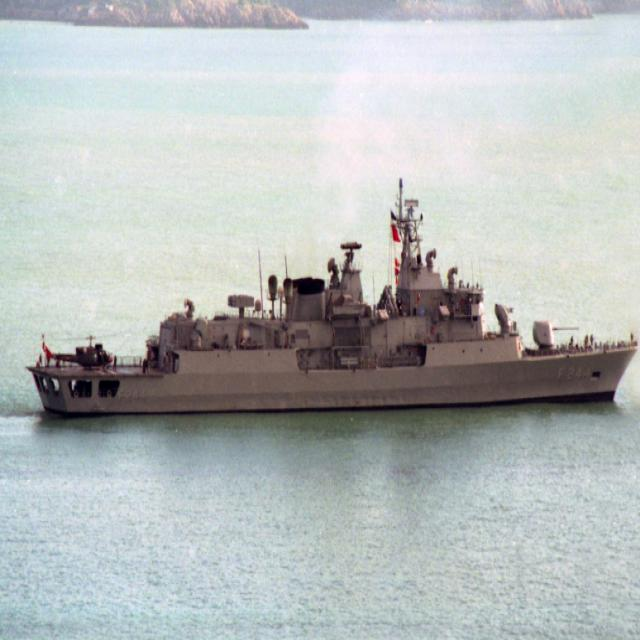Fragata: (26, 167, 640, 425)
